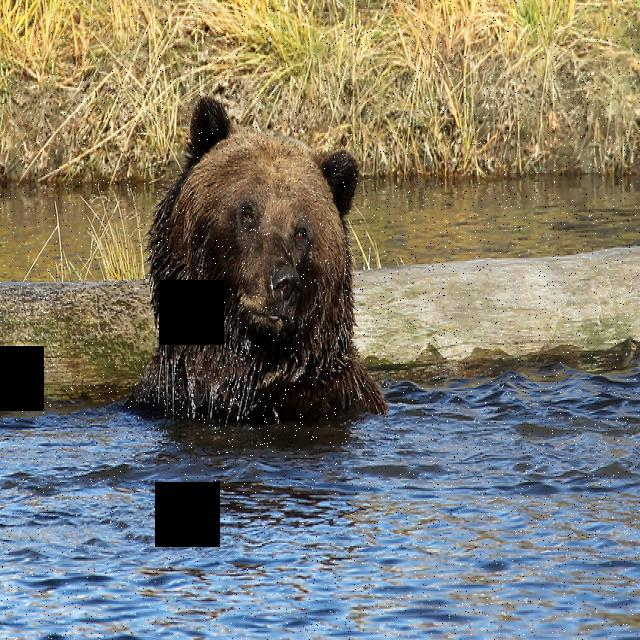Bear: (139, 90, 393, 448)
